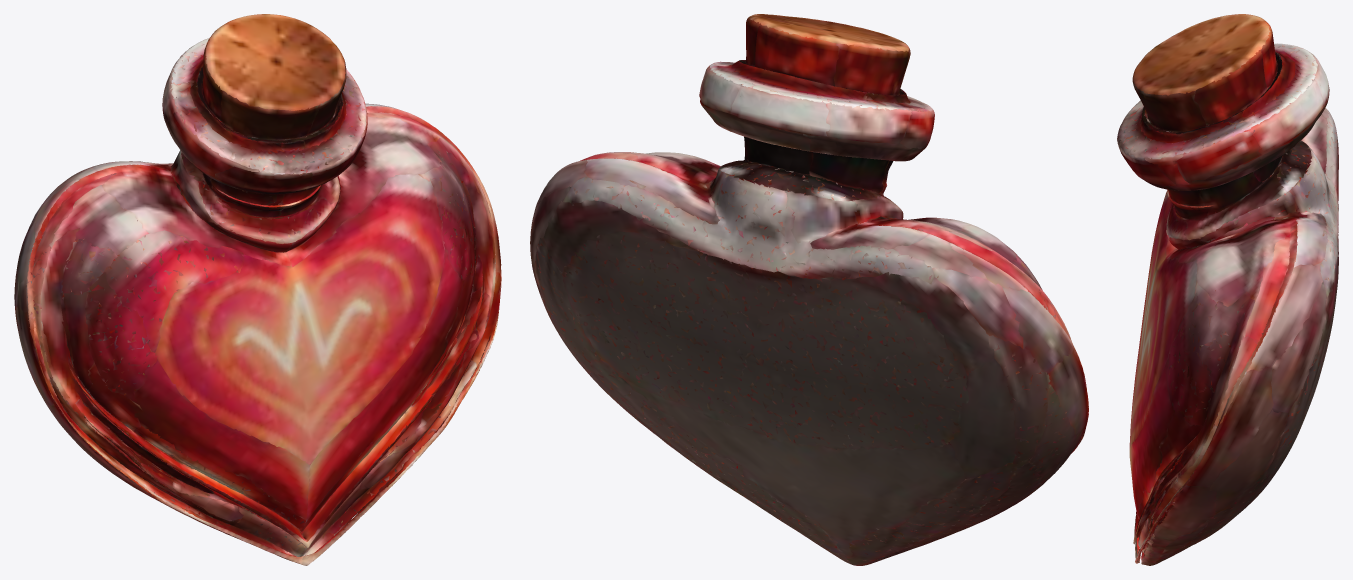
Rendered from heart.glb.
The picture shows the model from 3 angles, left to right: view 1: azimuth 30°, elevation 25°; view 2: azimuth 150°, elevation 25°; view 3: azimuth 270°, elevation 25°; orthographic projection. The views are drawn at different scales.
Visible parts, largest first — view 1: input; view 2: input; view 3: input.
Part boxes in pixels (left/top/right/bottom): input: left=14, top=14, right=501, bottom=565; input: left=530, top=14, right=1088, bottom=565; input: left=1117, top=14, right=1338, bottom=565.
Size of the model in its own units: 0.9636 by 0.9998 by 0.3758.
Materials: 1 (1 with a texture image).
